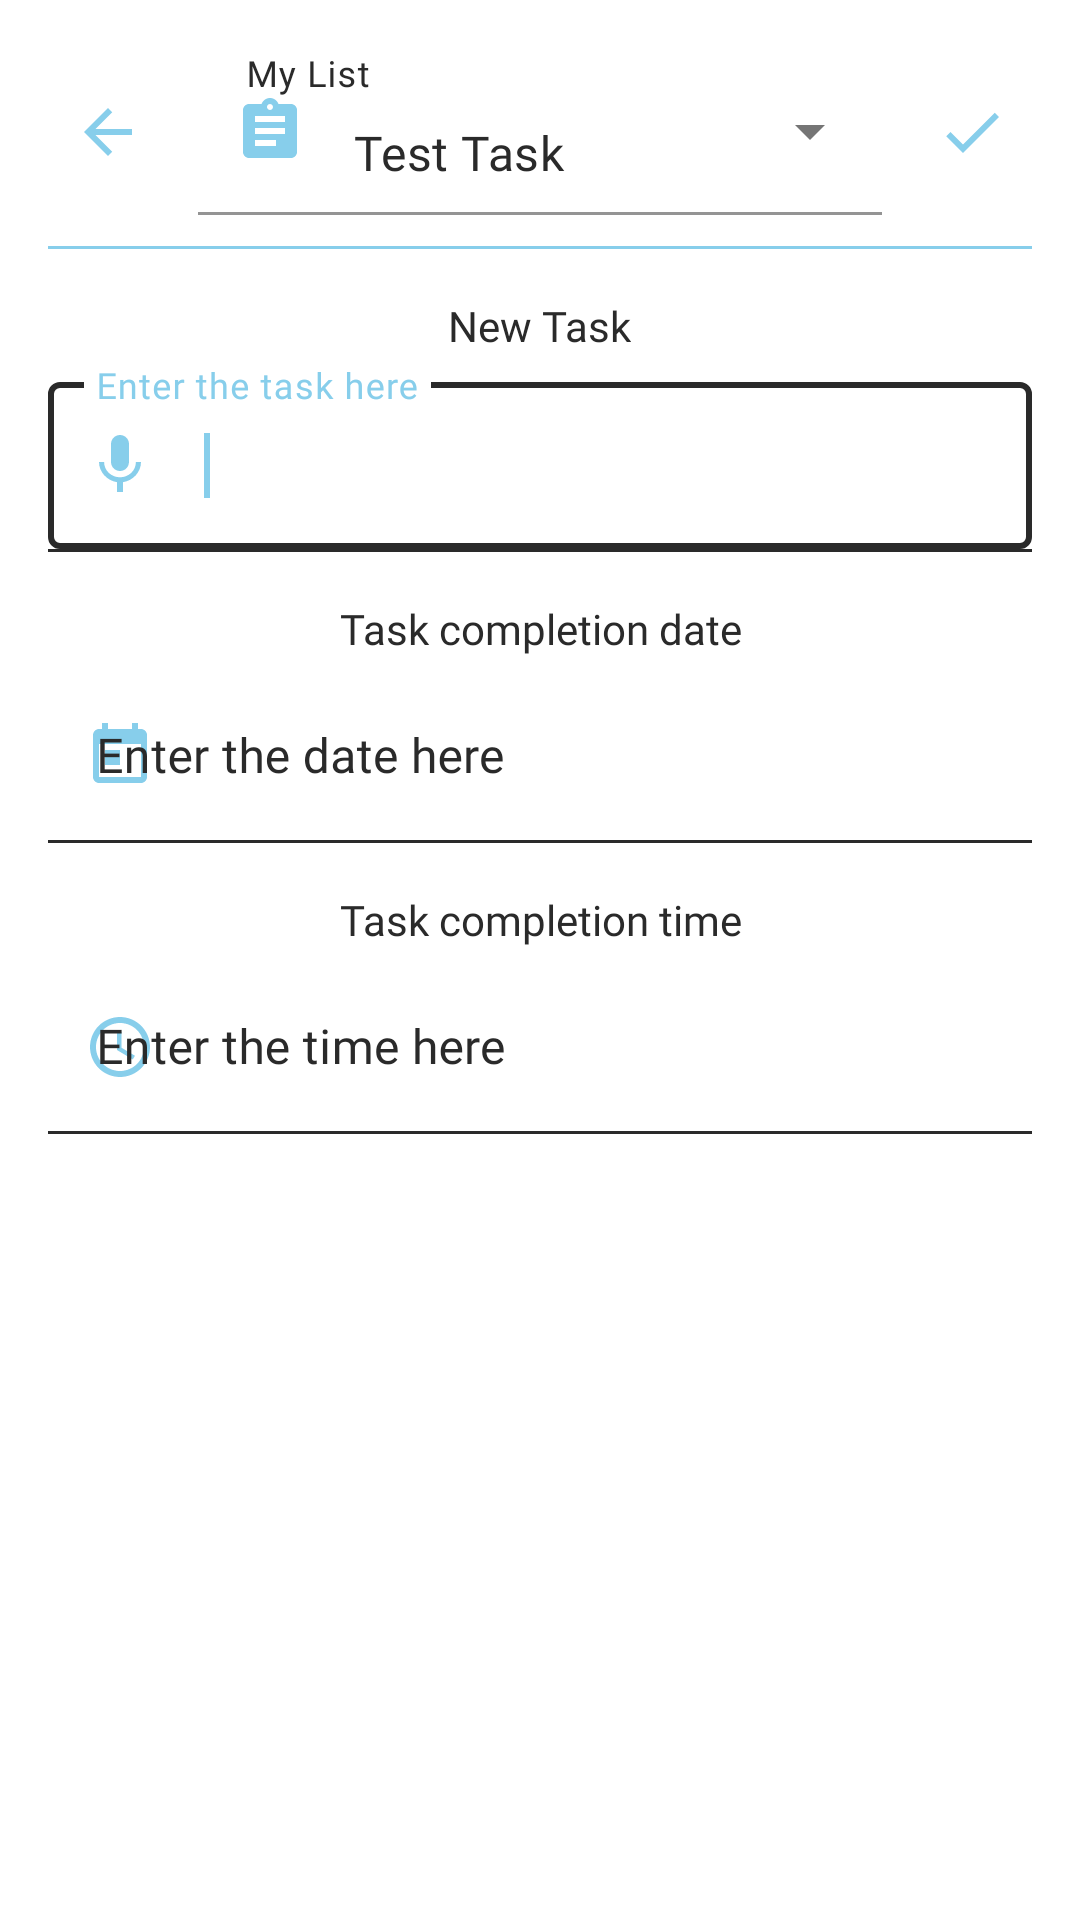

Locate icon controls on the screen. Image size 1080px x 1920px, boxes as bbox=(x1, y1, x2, y2).
arrow back: bbox=(84, 108, 132, 156)
check: bbox=(946, 113, 999, 153)
